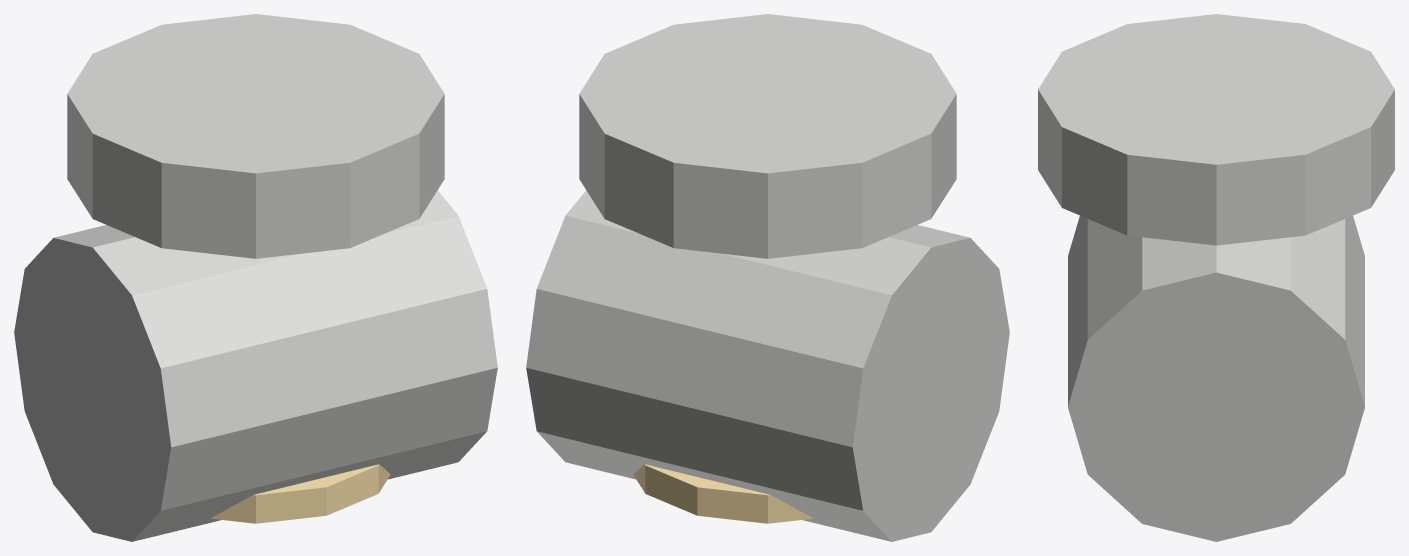
The model's file is spot_direcionavel.obj.
3 views of the same model, side by side, from view 1: azimuth 30°, elevation 25°; view 2: azimuth 150°, elevation 25°; view 3: azimuth 270°, elevation 25° (orthographic). The views are drawn at different scales.
Parts seen in each view (by area): view 1: spot_direcionavel; view 2: spot_direcionavel; view 3: spot_direcionavel.
Boxes of the visible parts, x1,y1,x2,y2 form: spot_direcionavel: [14, 14, 497, 541]; spot_direcionavel: [526, 14, 1009, 541]; spot_direcionavel: [1038, 14, 1394, 541].
Bounding box in the file's own units: 0.12 × 0.14 × 0.12.
